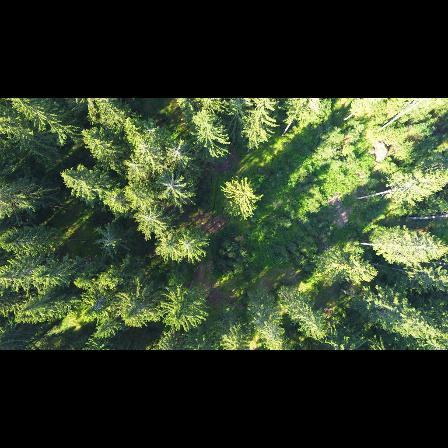Sick: (93, 223, 126, 257), (157, 173, 190, 203), (134, 135, 162, 169), (176, 228, 201, 259), (103, 189, 130, 215), (137, 205, 161, 234), (165, 138, 190, 165)
